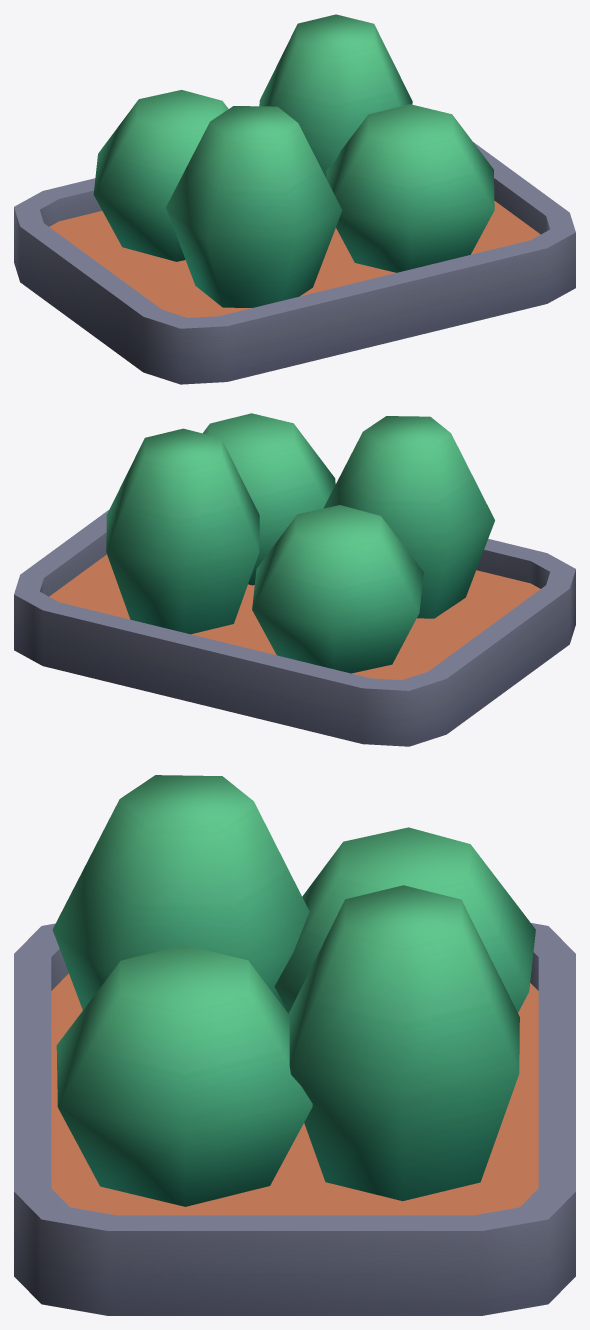
The picture shows the model from 3 angles, top to bottom: view 1: azimuth 30°, elevation 25°; view 2: azimuth 150°, elevation 25°; view 3: azimuth 270°, elevation 25°; orthographic projection. The views are drawn at different scales.
Parts seen in each view (by area): view 1: planter; view 2: planter; view 3: planter.
Part boxes in pixels (left/top/right/bottom): planter: left=14, top=14, right=575, bottom=384; planter: left=14, top=413, right=575, bottom=746; planter: left=14, top=775, right=575, bottom=1315.
Size of the model in its own units: 3.6 by 1.59 by 2.7.
Materials: 1 (1 with a texture image).
